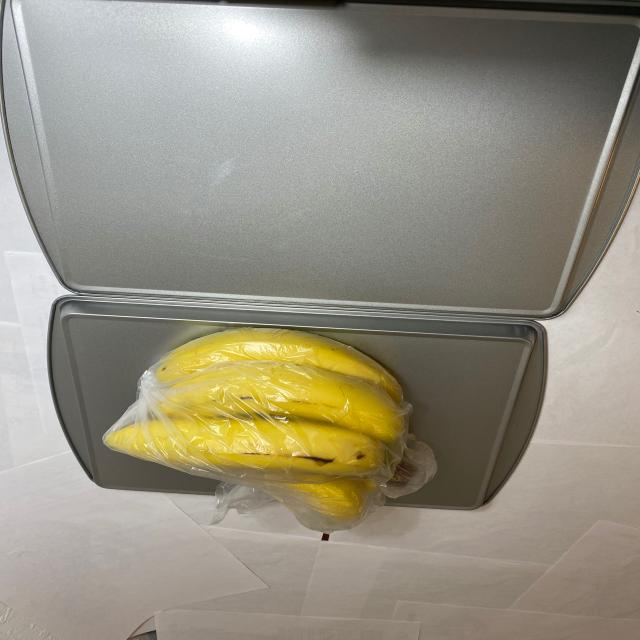banana: (97, 326, 416, 548)
